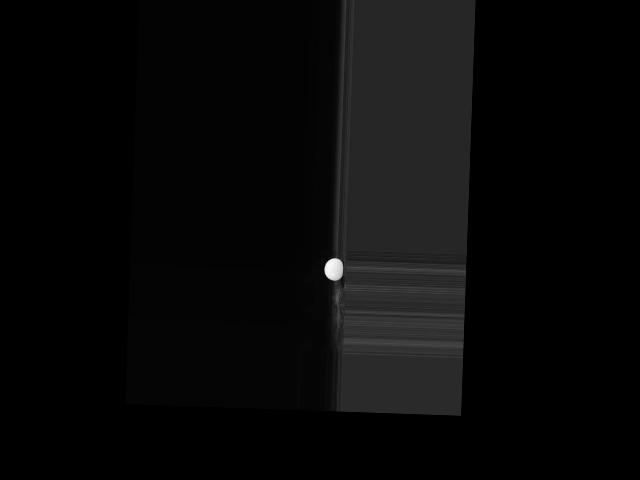egg: (324, 258, 343, 281)
